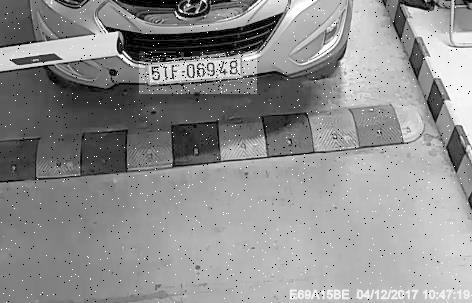License-plate: (140, 52, 258, 95)
